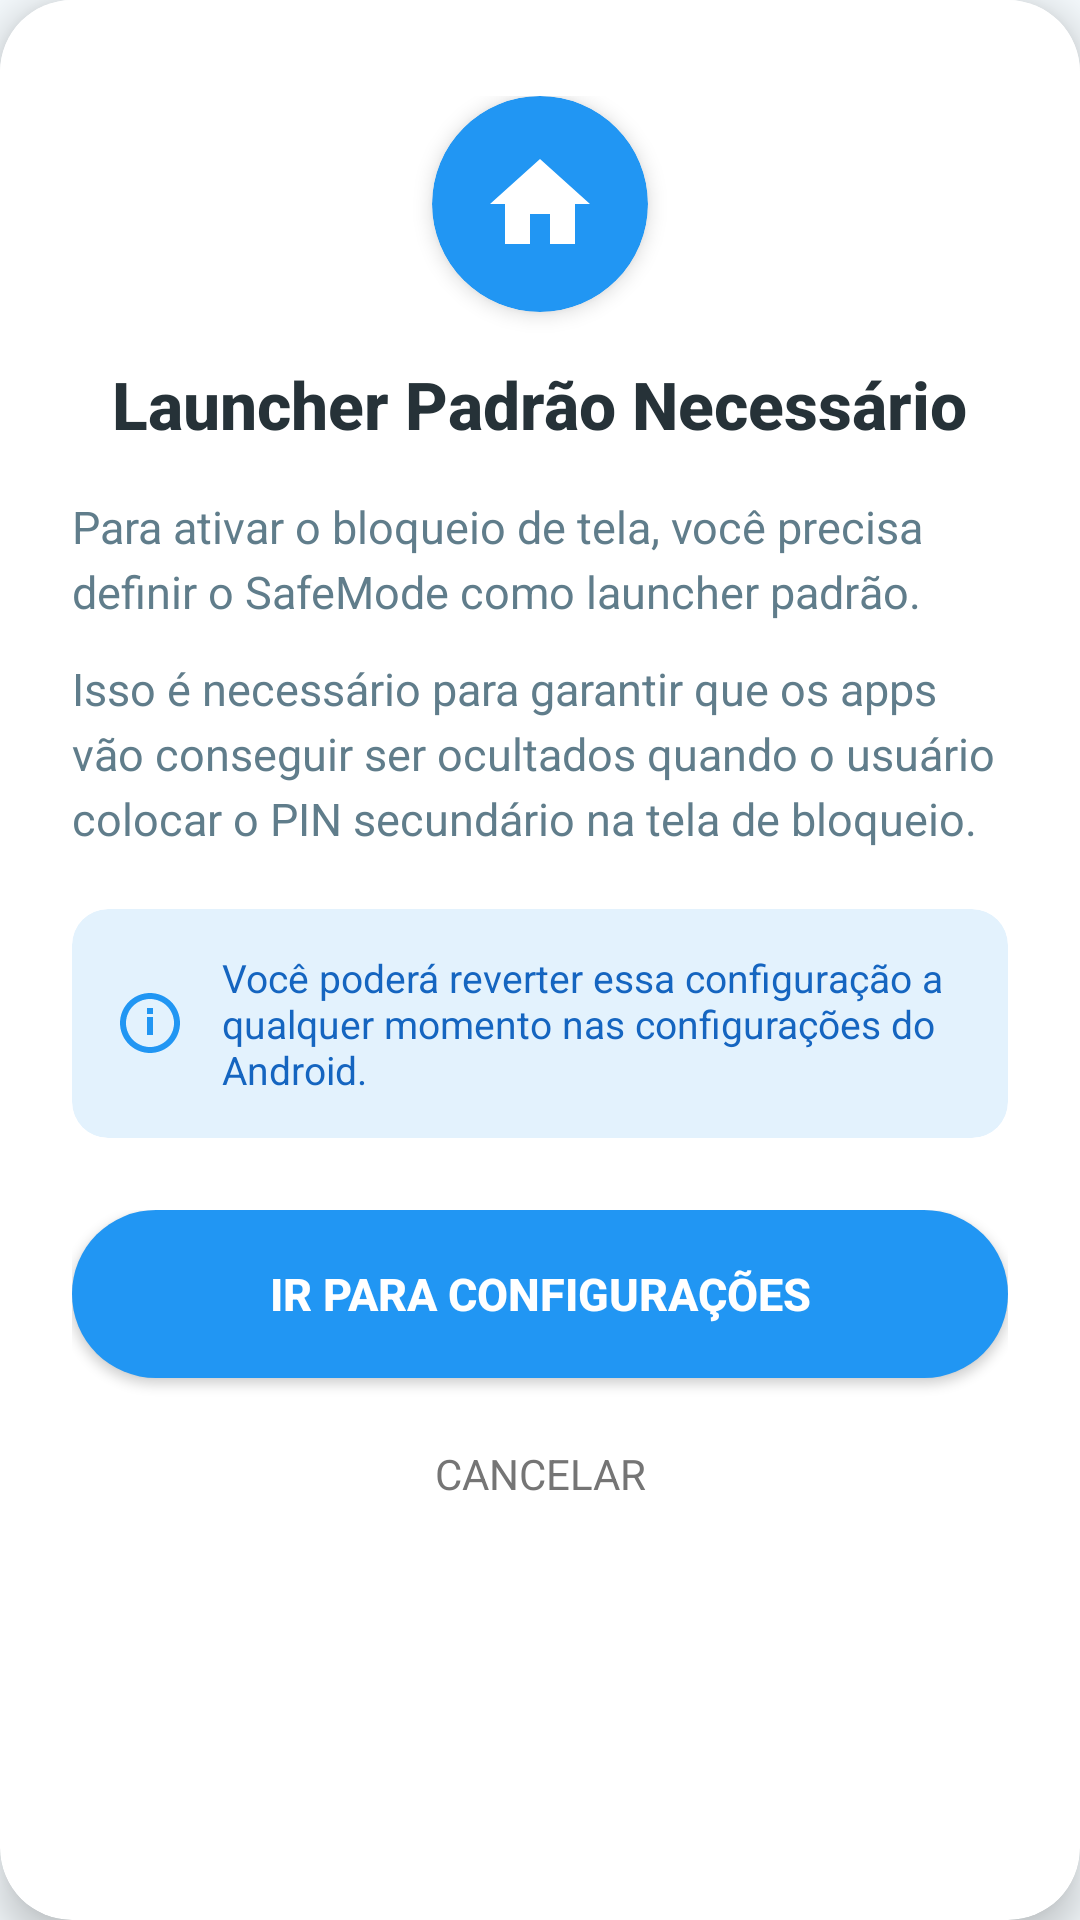

Icon click points for this 1080×1920 phone screenshot, format (x,y):
home: (540,201)
info: (150,1023)
